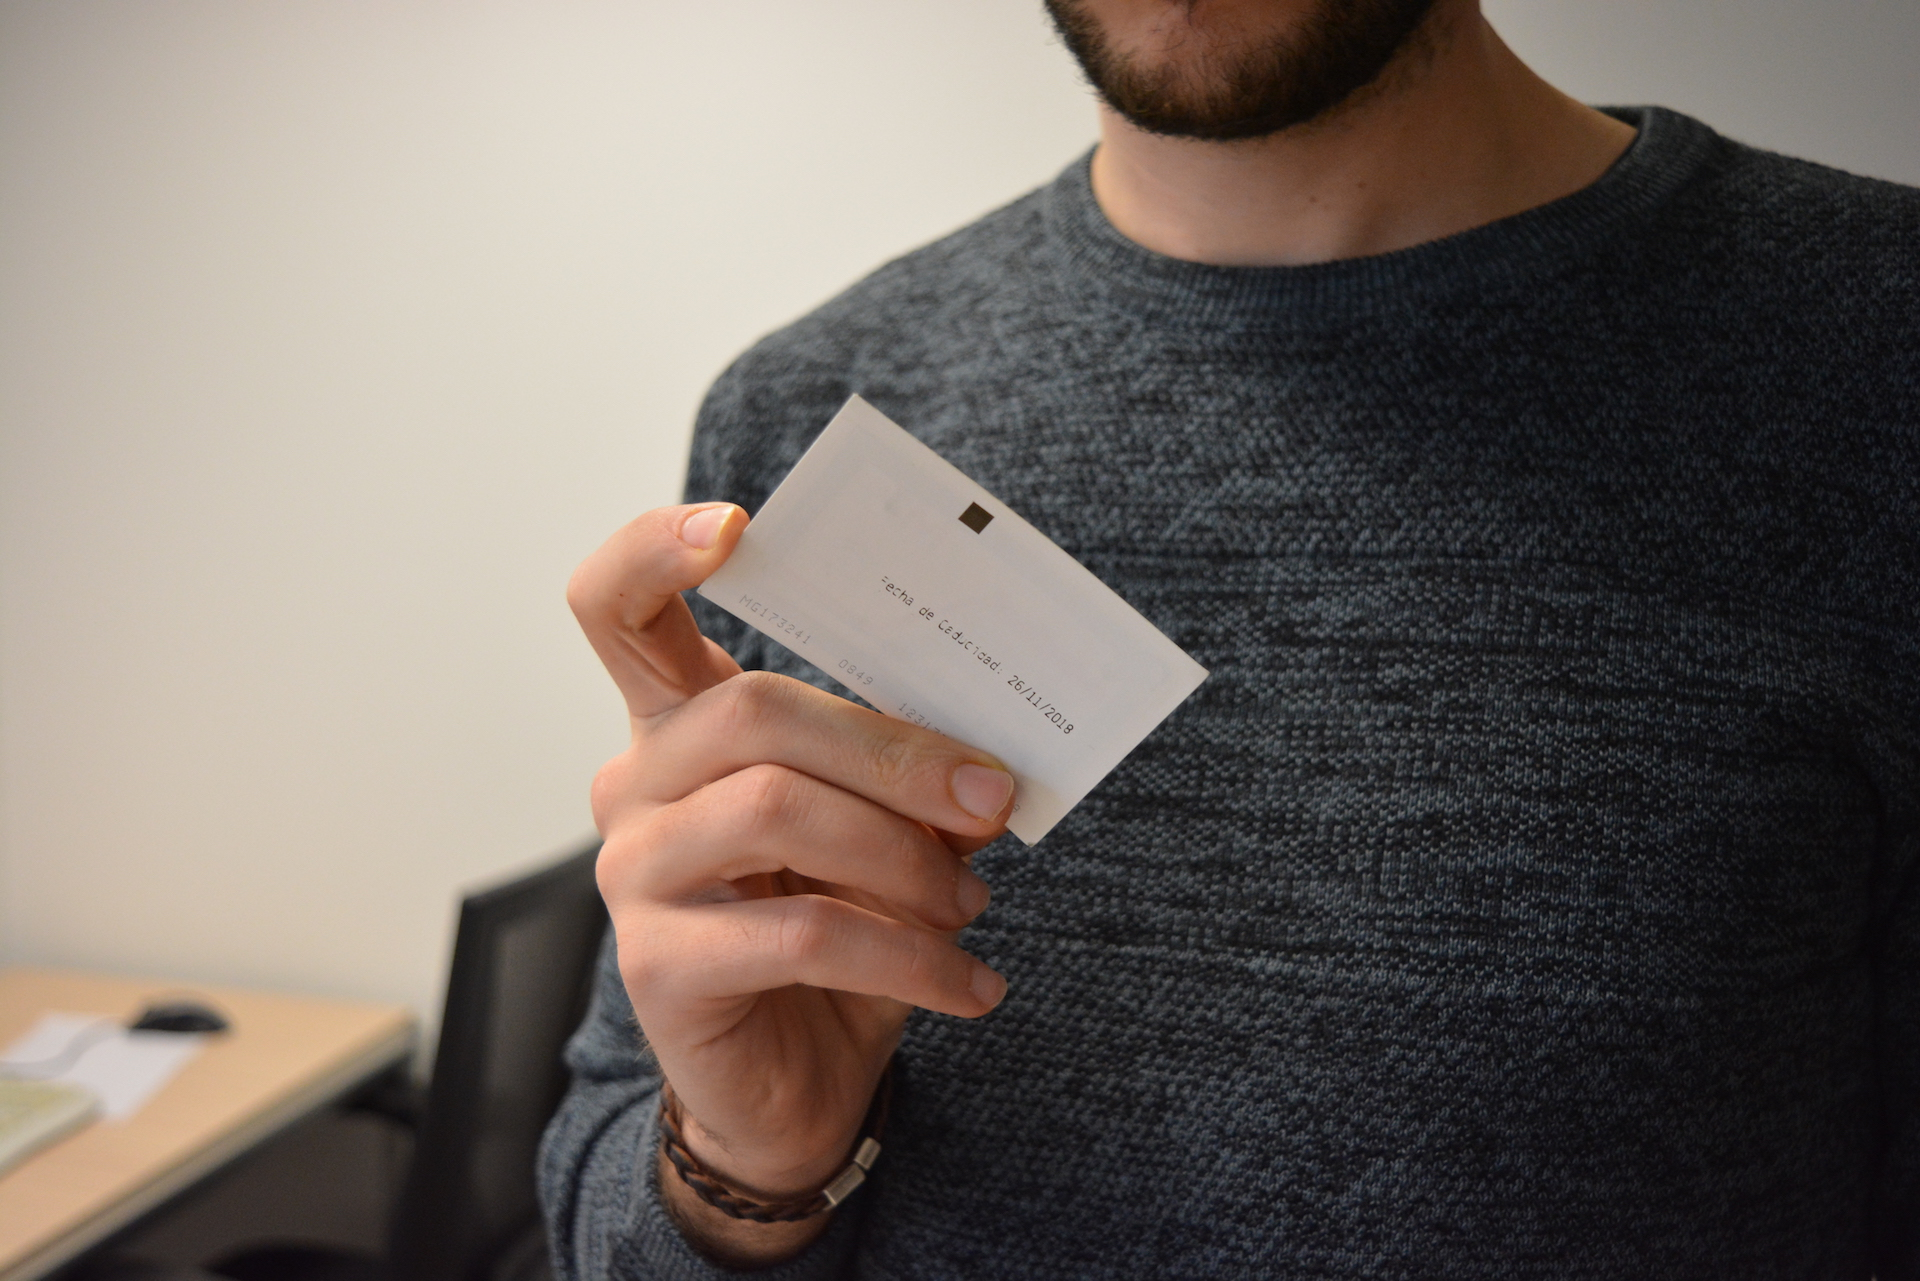tarjeta: (693, 389, 1214, 852)
